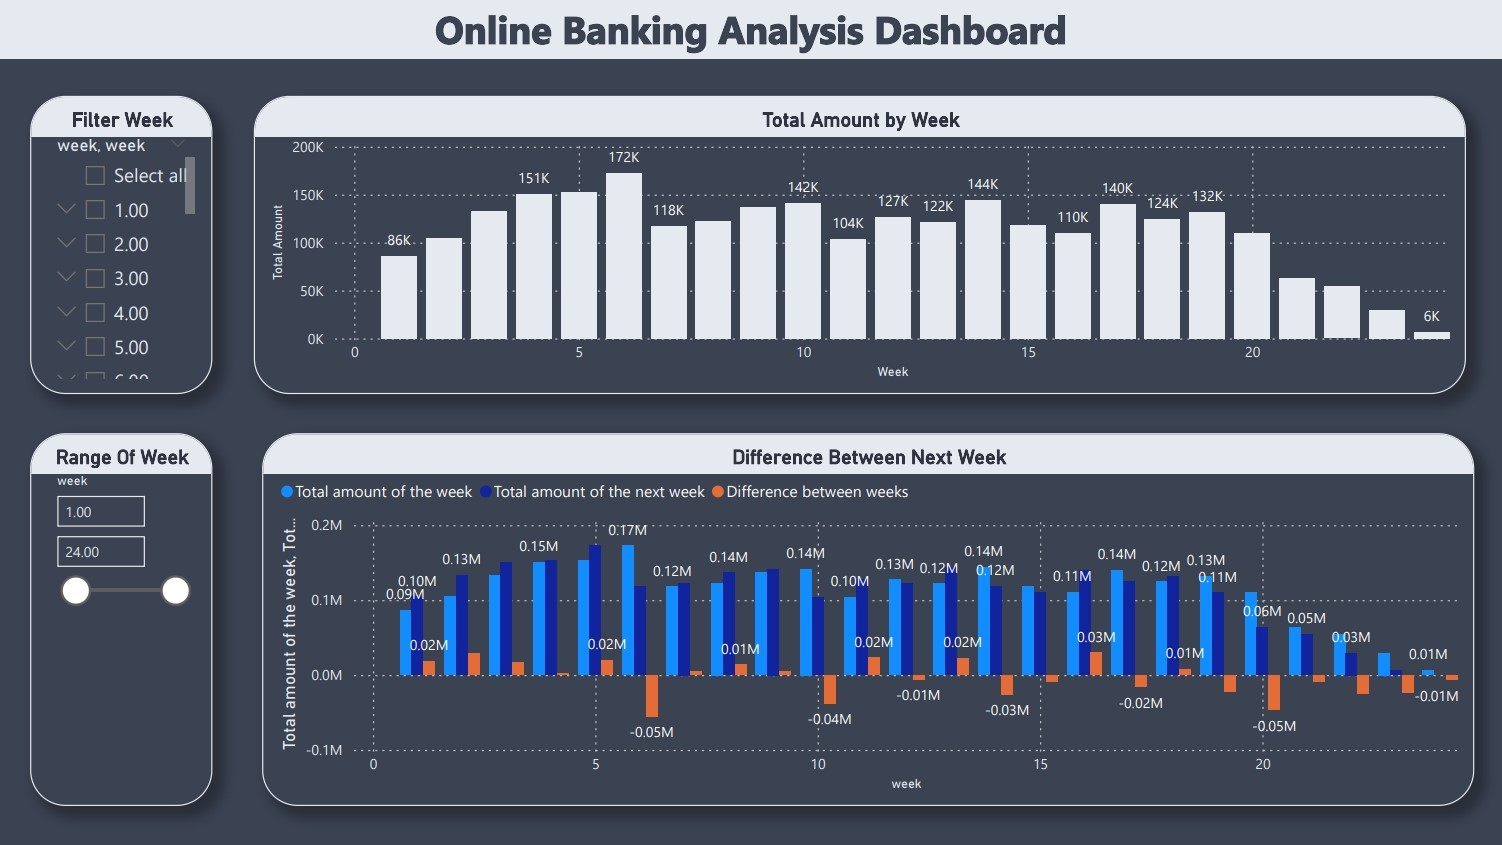

What the dashboard file says about the page in this screenshot:
{"tool":"powerbi","page":{"name":"Page 3","canvas":[1280,720],"ordinal":2},"visuals":[{"type":"columnChart","fields":{"Category":["Query9.week"],"Y":["Sum(Query9.total_amount)"]},"box":[220,84,1024,252],"z":0},{"type":"clusteredColumnChart","title":"Difference Between Next Week","fields":{"Category":["Query10.week","Query10.next_week"],"Y":["Sum(Query10.total_amount)","Sum(Query10.next_week_total_amount)","Sum(Query10.difference)"]},"box":[227,369,1024,315],"z":1000},{"type":"slicer","title":"Filter Week","fields":{"Values":["Query9.week","Query10.week"]},"box":[31,84,154,252],"z":2000},{"type":"slicer","title":"Range Of Week","fields":{"Values":["Query9.week"]},"box":[31,369,154,315],"z":3000},{"type":"textbox","box":[0,0,1280,59],"z":4000}]}

Visuals, with their boxes in screenshot pixels (x1, y1, x2, y2), scaled from the page's 1280x720 canvas onto the 1502x845 screenshot:
columnChart - Query9.week x Sum(Query9.total_amount): region(258, 99, 1460, 394)
"Difference Between Next Week" clusteredColumnChart: region(266, 433, 1468, 803)
"Filter Week" slicer: region(36, 99, 217, 394)
"Range Of Week" slicer: region(36, 433, 217, 803)
textbox: region(0, 0, 1501, 69)
